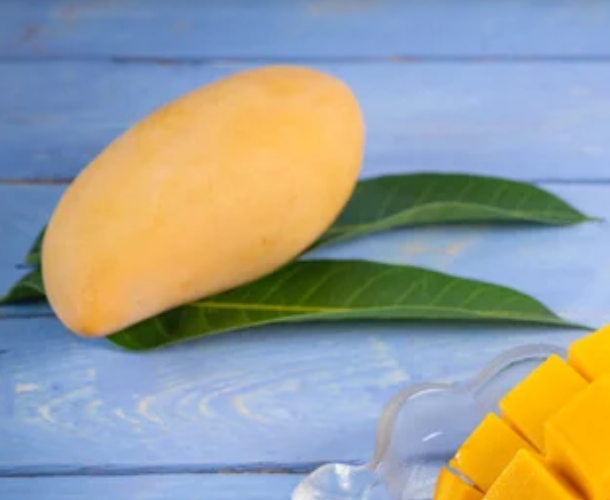mango: (36, 65, 367, 342)
